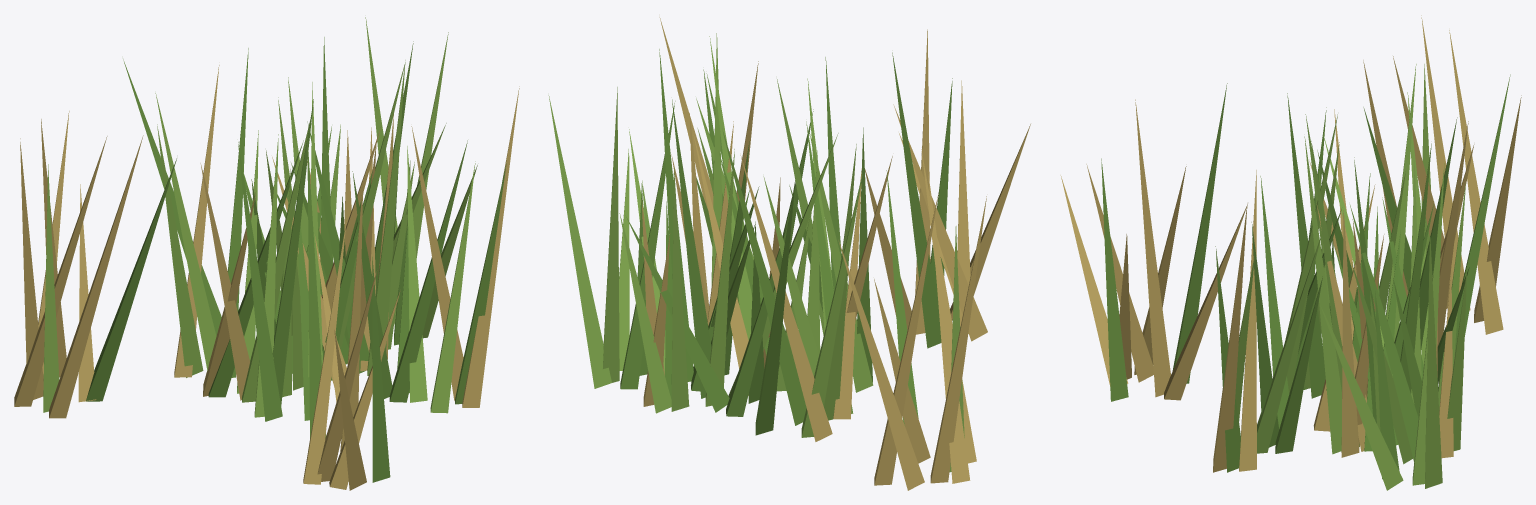
Rendered from cover_grass_tall.glb.
The picture shows the model from 3 angles, left to right: view 1: azimuth 30°, elevation 25°; view 2: azimuth 150°, elevation 25°; view 3: azimuth 270°, elevation 25°; orthographic projection.
Visible parts, largest first — view 1: scatter_grass_tall; view 2: scatter_grass_tall; view 3: scatter_grass_tall.
Boxes of the visible parts, x1=… form: scatter_grass_tall: x1=14, y1=17, x2=519, y2=490; scatter_grass_tall: x1=548, y1=17, x2=1030, y2=490; scatter_grass_tall: x1=1060, y1=15, x2=1521, y2=490.
Bounding box in the file's own units: 1.7 × 1.22 × 1.56.
